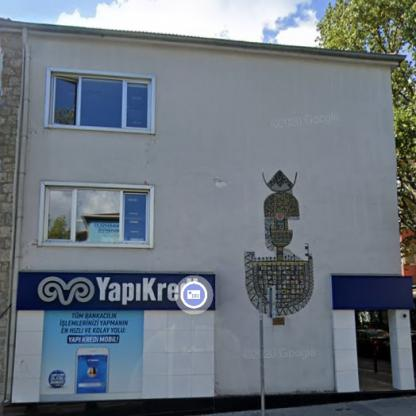window: (46, 186, 146, 243), (52, 75, 150, 130)
